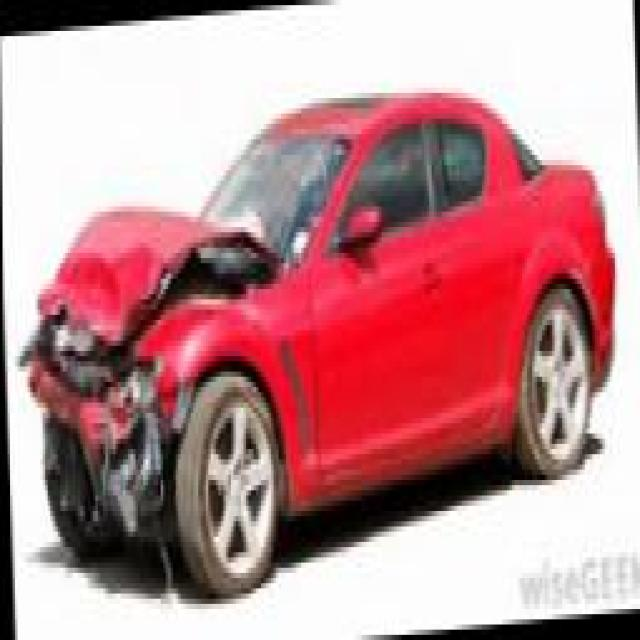Bonnet: (32, 201, 287, 400)
Bumper: (23, 346, 172, 535)
Light: (109, 351, 161, 400)
